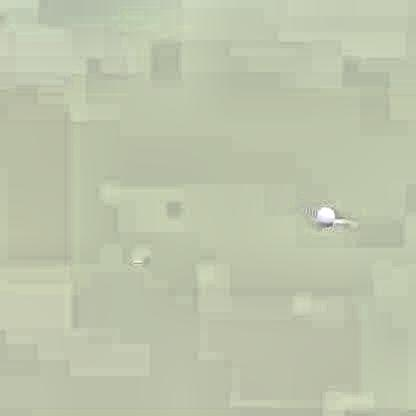golfball: (315, 205, 333, 225)
